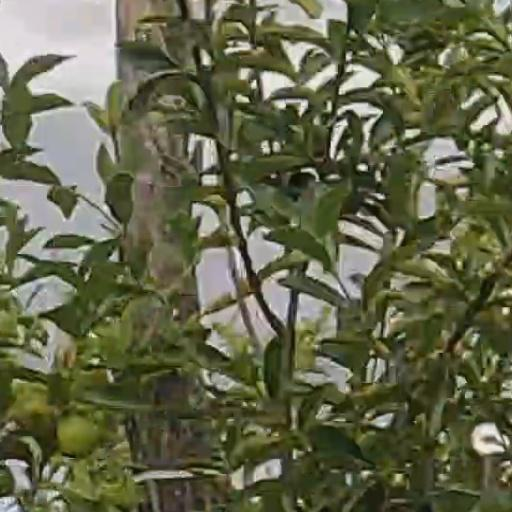acerola_verde: (58, 419, 98, 454)
